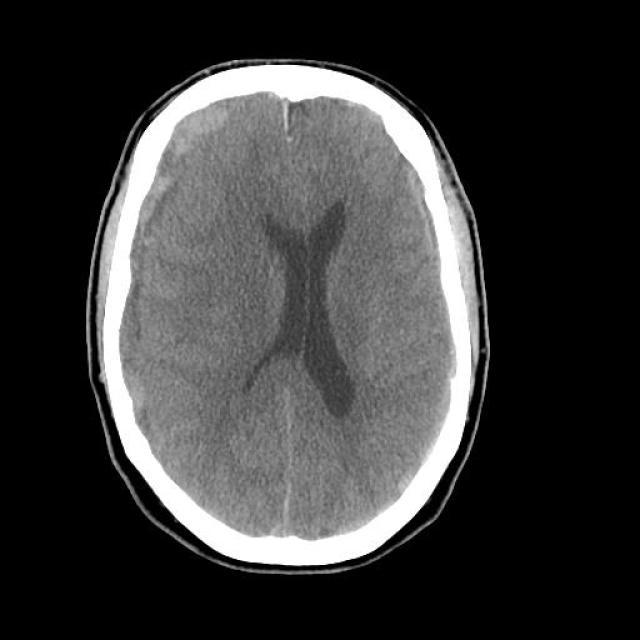Subdural: (110, 89, 254, 252)
